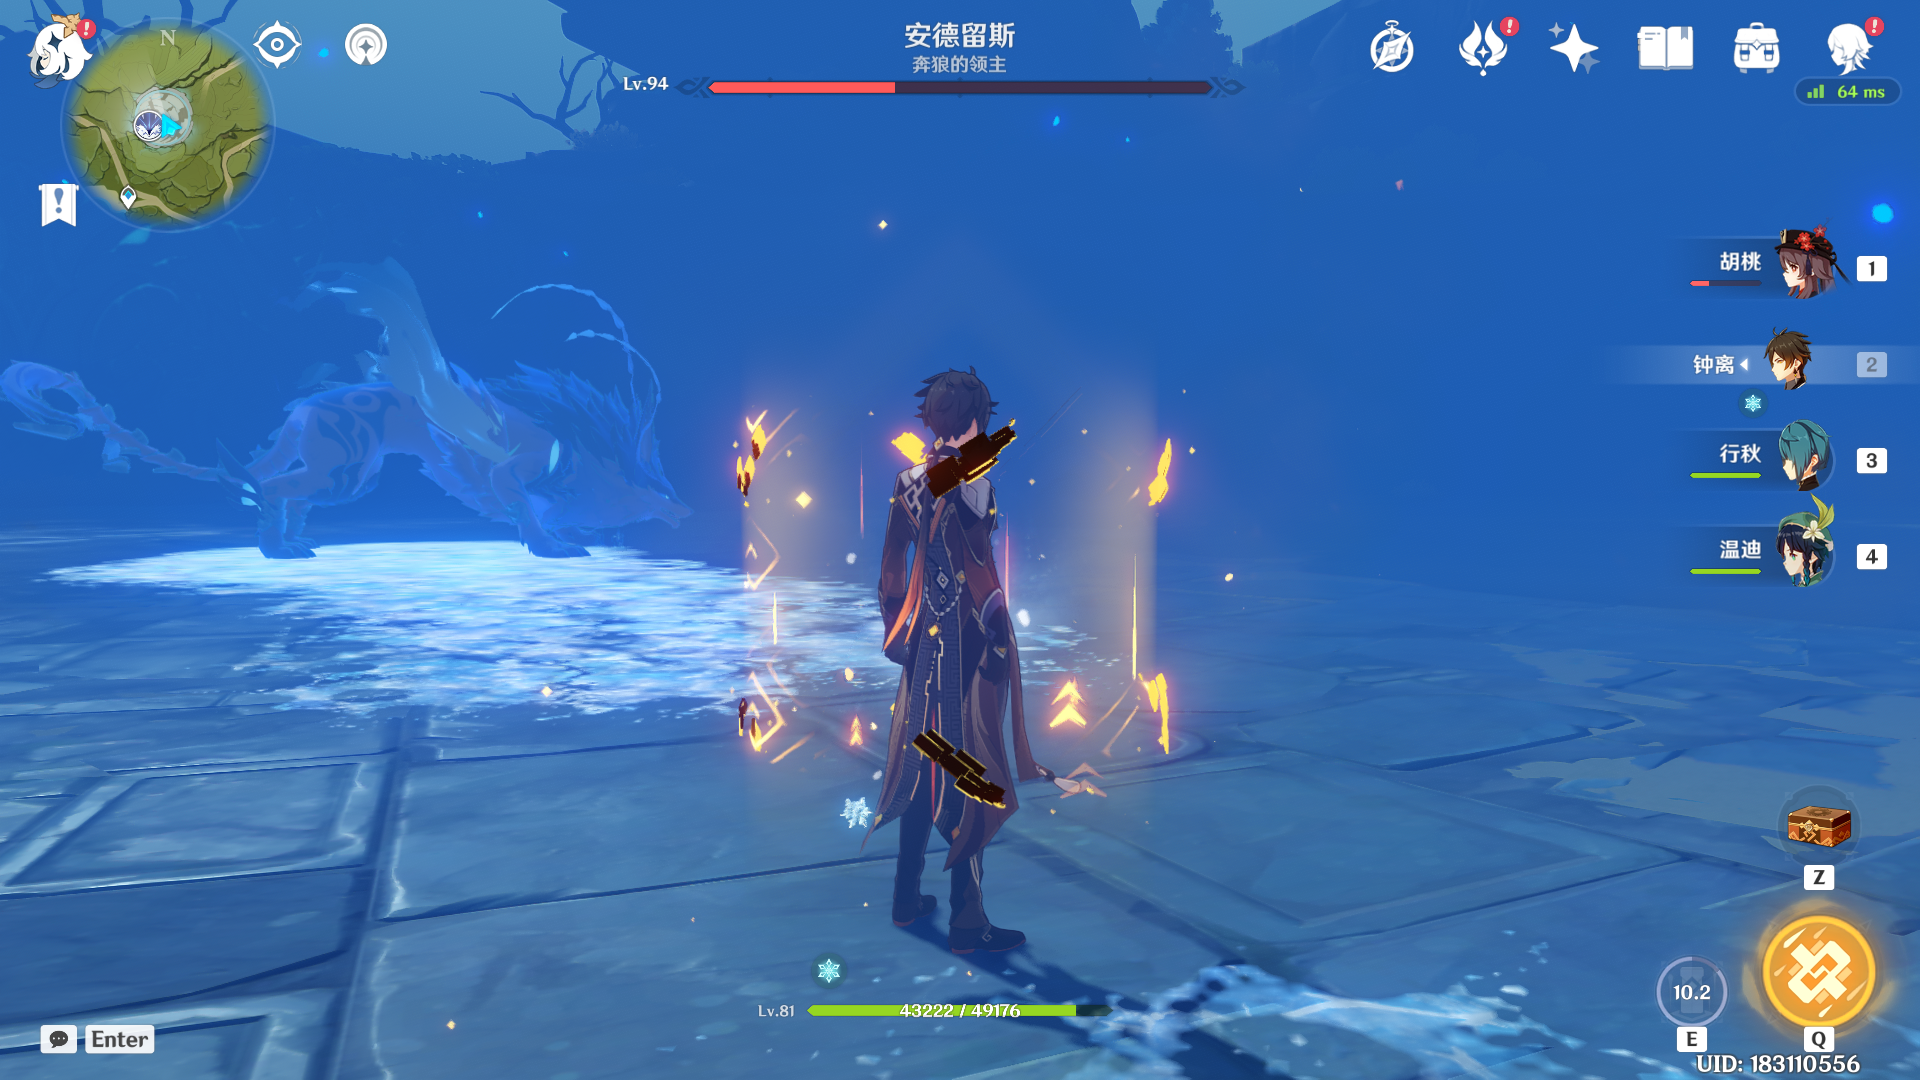character: (773, 320, 1141, 989)
